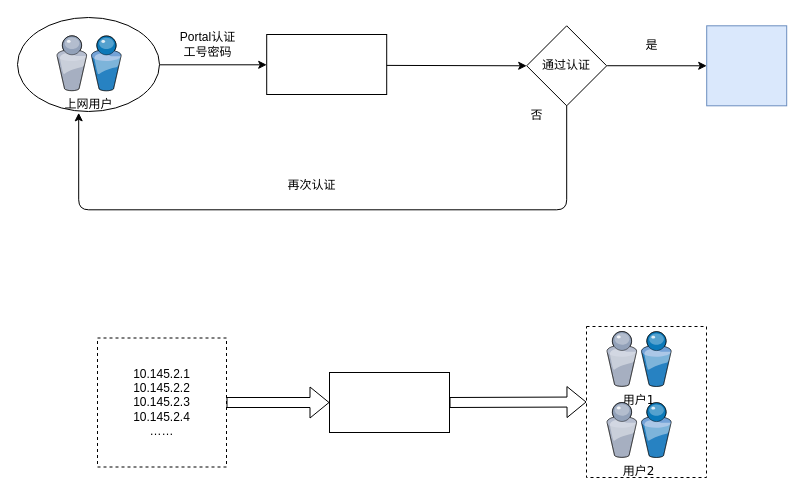
The diagram is 805 pixels wide and 496 high, and some of its shapes have lost their labels. Here are the shapes that lost their labels. From the top down, the centre of each, then its label:
point 326,64: 防火墙将工号密码发送至LDAP服务器验证
point 746,65: 完成认证
point 389,402: 用户管理与认证
